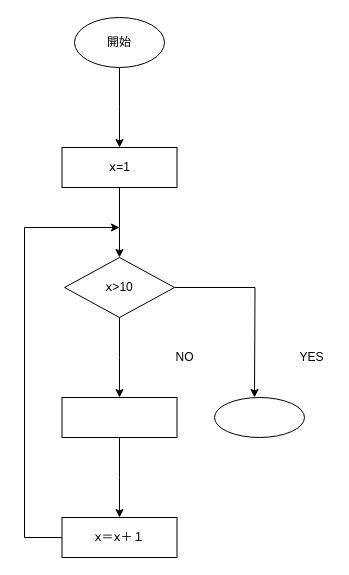
Some shapes in this 349 by 575 pixel diagram are drawn without their labels. The shapes that lost their labels are listed below. From the top down, each one's centre as x and y in pixels, then its label:
At pixel 119 417: "ⅹを表示".
At pixel 259 417: "終了".
